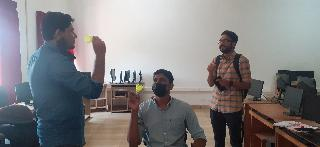shuttlecock: (135, 83, 143, 93)
